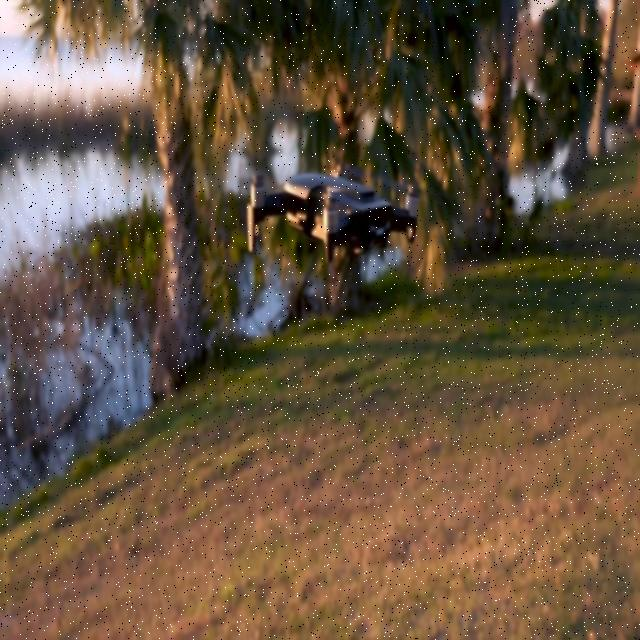UAV: (241, 165, 428, 264)
